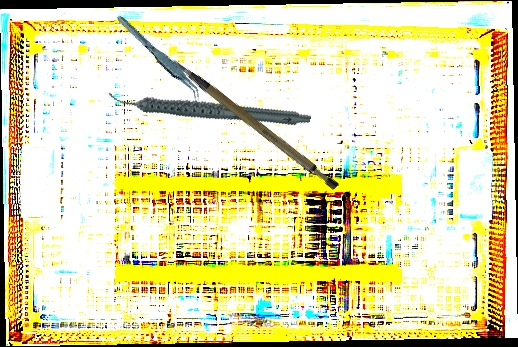Handpiece: (106, 50, 313, 164)
Scalpel Handle: (170, 34, 342, 210)
Tissue Forceps: (115, 5, 205, 110)
